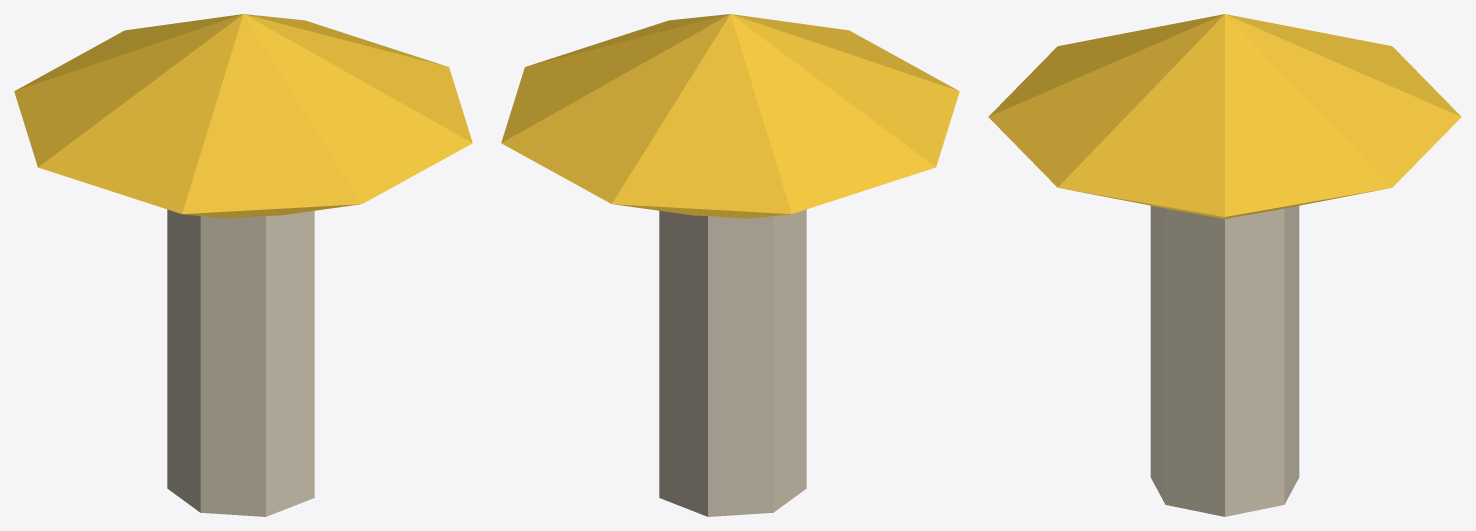
Rendered from mushroom_yellow.obj.
The picture shows the model from 3 angles, left to right: view 1: azimuth 30°, elevation 25°; view 2: azimuth 150°, elevation 25°; view 3: azimuth 270°, elevation 25°; orthographic projection.
Bounding box in the file's own units: 0.56 × 0.6144 × 0.56.
2 materials, 2 textured.
